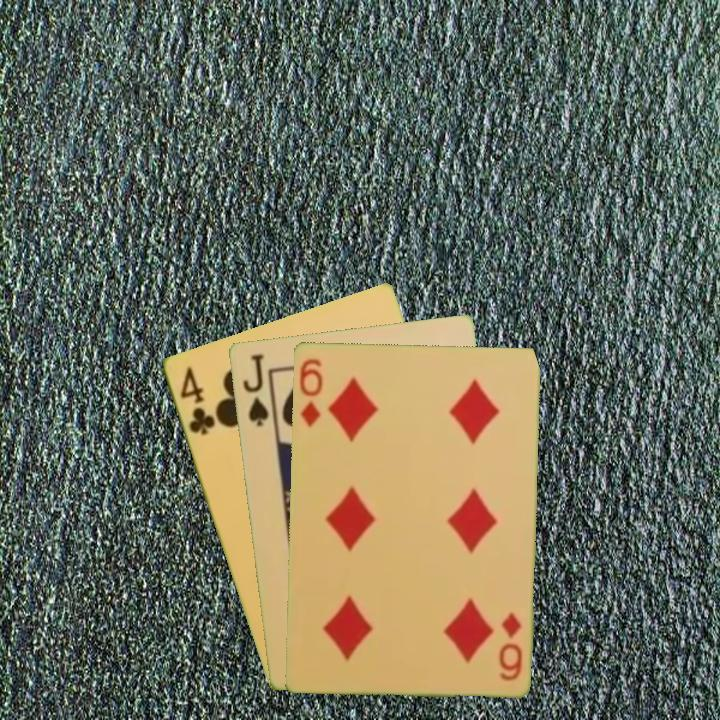4c: (176, 363, 218, 438)
6d: (295, 354, 325, 430), (495, 609, 524, 683)
Js: (238, 350, 271, 429)
